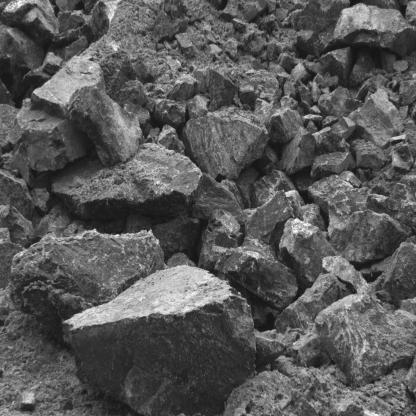stone: (64, 271, 254, 416), (10, 225, 163, 325), (50, 145, 197, 225), (315, 292, 416, 387), (180, 107, 269, 180), (66, 87, 143, 165), (17, 96, 86, 173), (214, 246, 298, 309), (329, 208, 411, 263), (335, 3, 416, 58), (273, 272, 343, 332), (278, 218, 331, 289), (308, 173, 367, 233), (33, 58, 101, 110), (0, 22, 46, 94), (350, 90, 404, 149), (193, 174, 250, 223), (198, 209, 242, 270), (244, 192, 294, 245), (383, 236, 416, 302), (155, 216, 201, 260), (321, 256, 371, 292), (279, 130, 318, 174), (384, 173, 416, 226), (250, 173, 295, 209), (0, 205, 37, 244), (318, 87, 362, 119), (240, 70, 281, 104), (207, 70, 237, 113), (322, 47, 354, 87), (256, 332, 289, 368), (311, 150, 351, 179), (270, 108, 303, 143), (290, 332, 323, 367), (151, 13, 189, 42), (153, 98, 187, 130), (167, 74, 202, 102), (353, 140, 385, 169), (350, 52, 377, 84), (158, 125, 184, 156), (316, 132, 350, 153), (331, 116, 357, 140), (391, 144, 414, 171), (296, 79, 315, 111), (187, 95, 210, 120), (192, 65, 211, 93), (42, 51, 64, 75), (399, 79, 416, 109), (175, 33, 196, 57), (379, 50, 398, 73), (290, 63, 311, 82), (278, 52, 293, 71), (268, 61, 287, 74), (311, 81, 320, 103), (393, 59, 409, 71)
